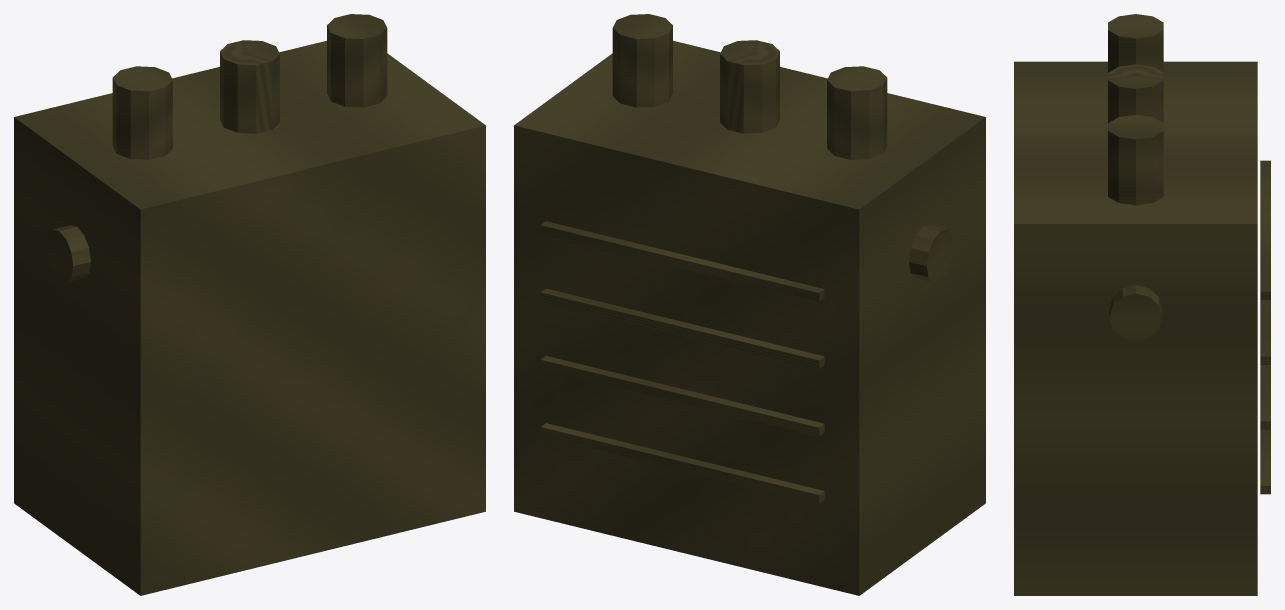
The model's file is env_fuel_manifold_assembly_a.glb.
3 renders of one model, left to right at view 1: azimuth 30°, elevation 25°; view 2: azimuth 150°, elevation 25°; view 3: azimuth 270°, elevation 25°, orthographic. The views are drawn at different scales.
Visible parts, largest first — view 1: env_fuel_manifold_assembly_a; view 2: env_fuel_manifold_assembly_a; view 3: env_fuel_manifold_assembly_a.
Boxes of the visible parts, <box> form: env_fuel_manifold_assembly_a: <box>14,14,485,595</box>; env_fuel_manifold_assembly_a: <box>514,14,985,595</box>; env_fuel_manifold_assembly_a: <box>1014,14,1270,595</box>.
Size of the model in its own units: 1.6 by 1.83 by 0.97.
Materials: 1 (1 with a texture image).
